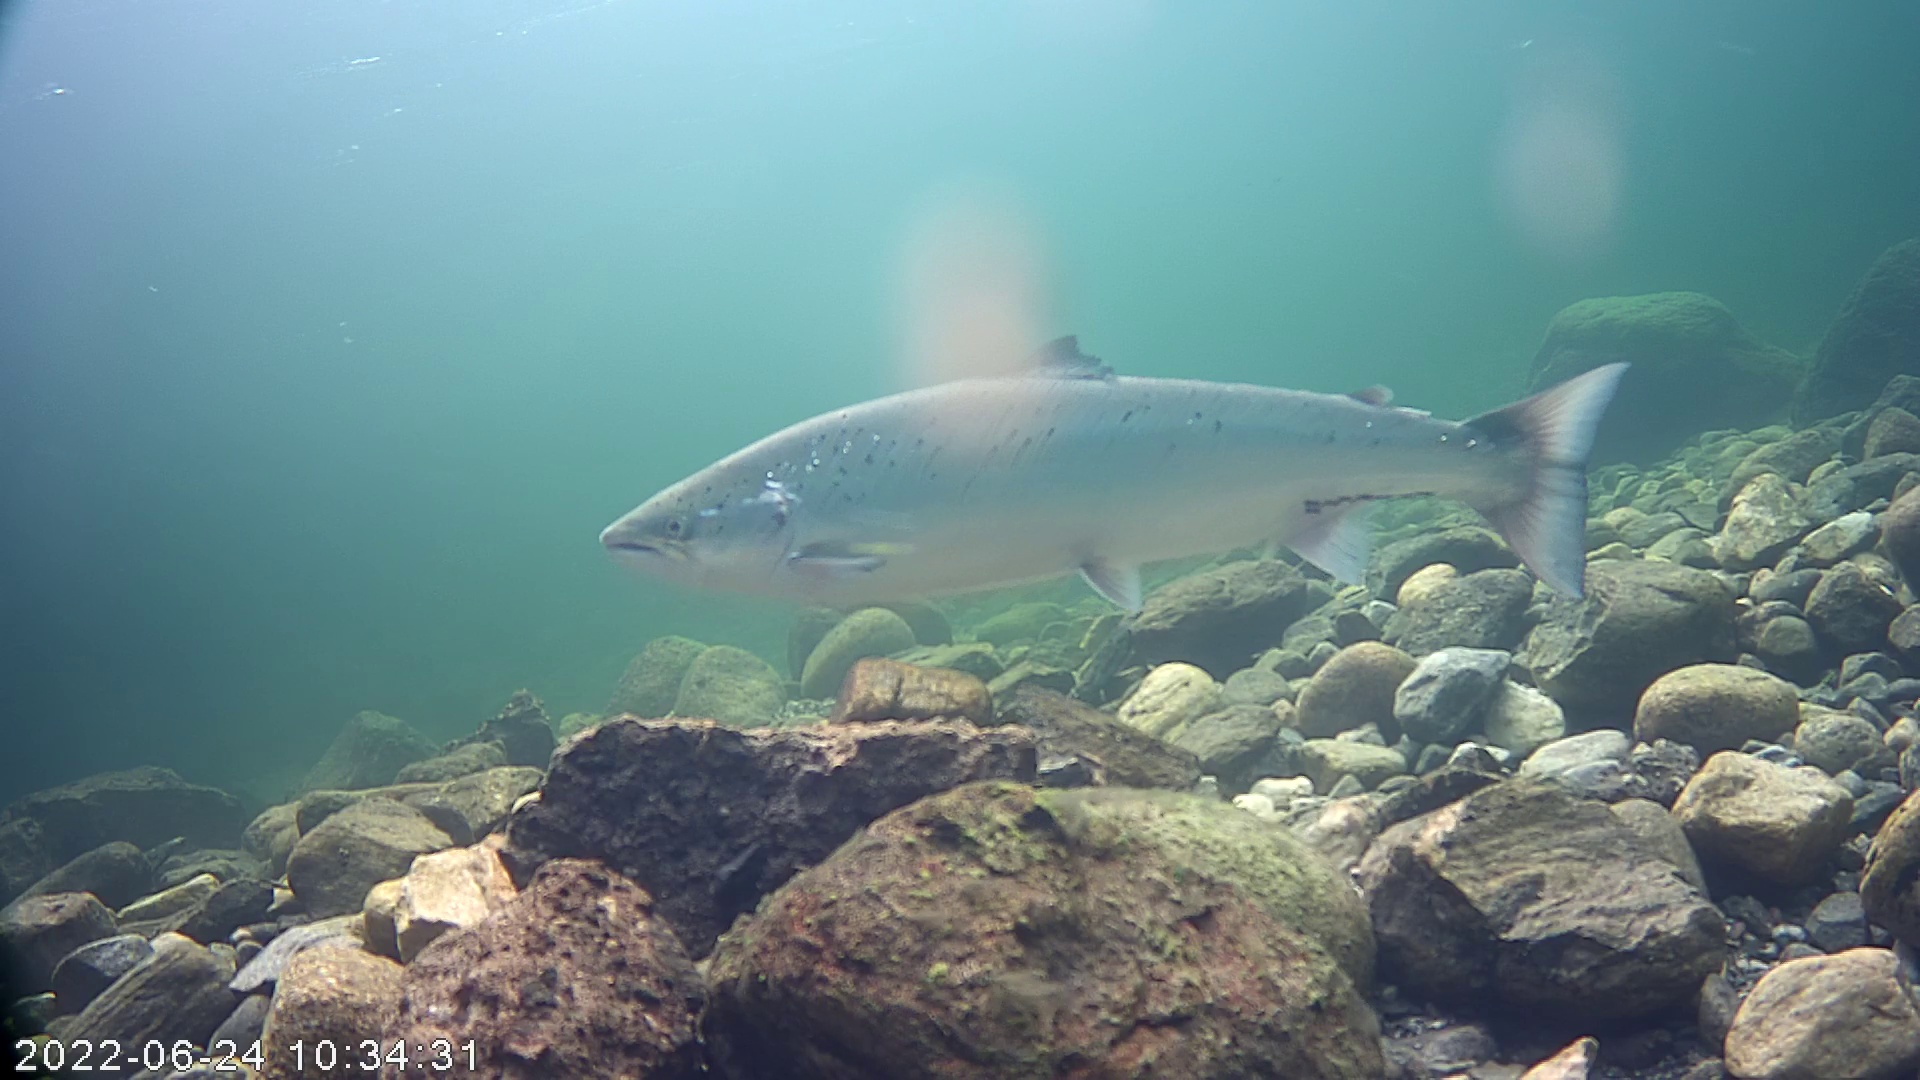salmon: (593, 327, 1630, 616)
